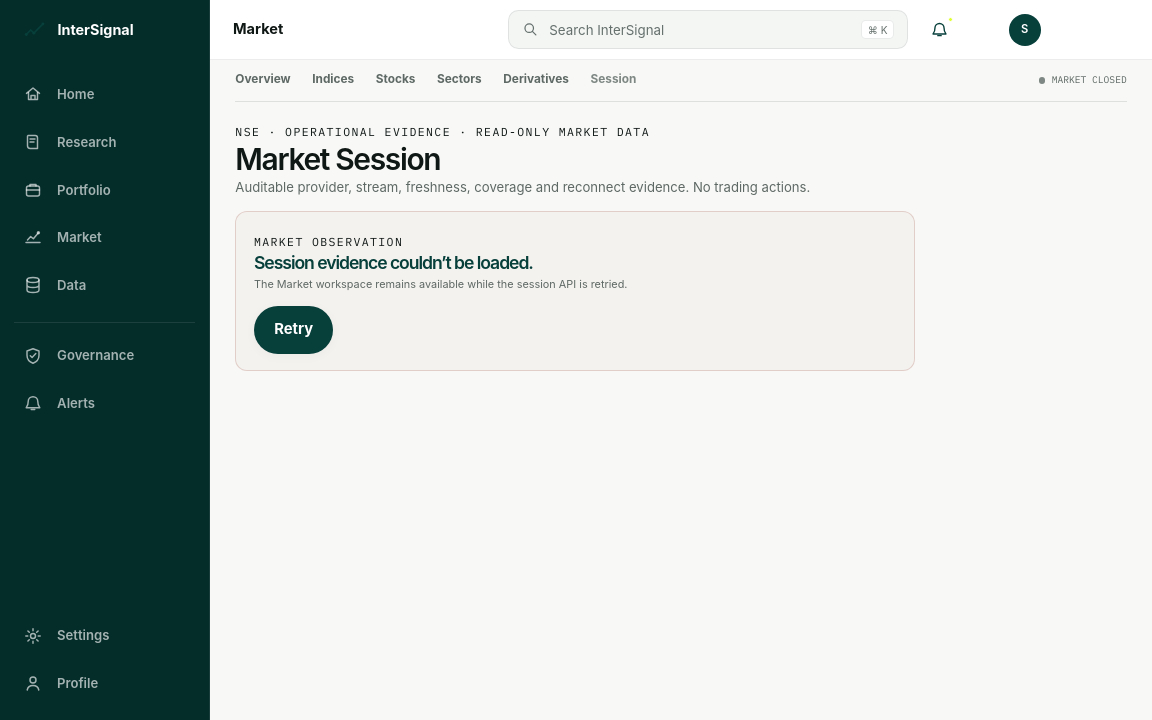
Test: MarketSessionPage state semantics › shows compact Retry UI only for an actual current-session API failure
Expected: the heading "Session evidence couldn’t be loaded." is shown, [254, 252, 533, 273]
What coordinates should you click on to do the following:
click the button "Retry"
I would click on:
 (294, 330)
Its box is [254, 306, 333, 354].
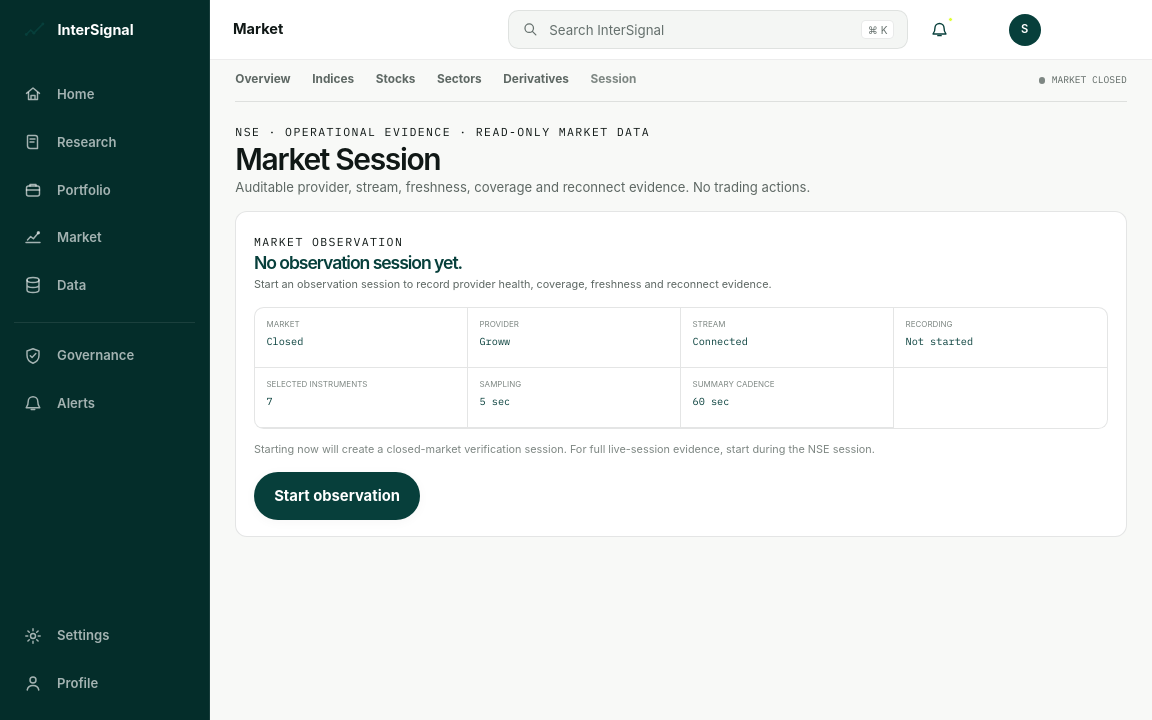
Now the heading "No observation session yet." is shown, box [254, 252, 462, 273]
